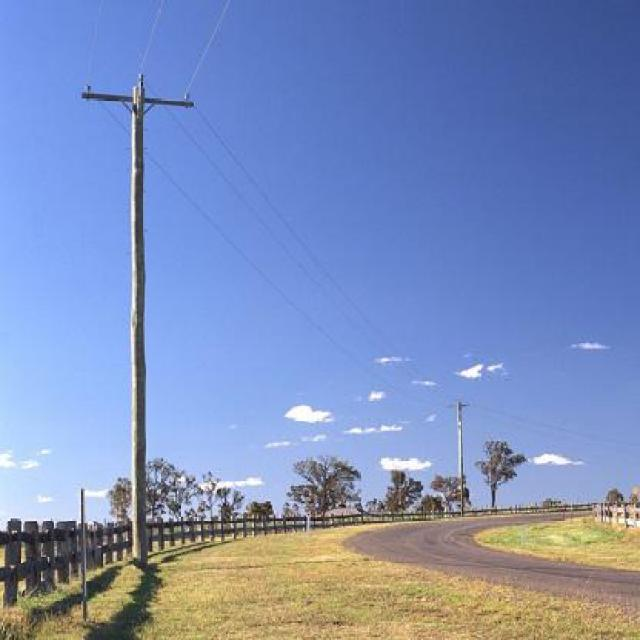pole: (82, 63, 200, 563), (437, 392, 478, 518)
